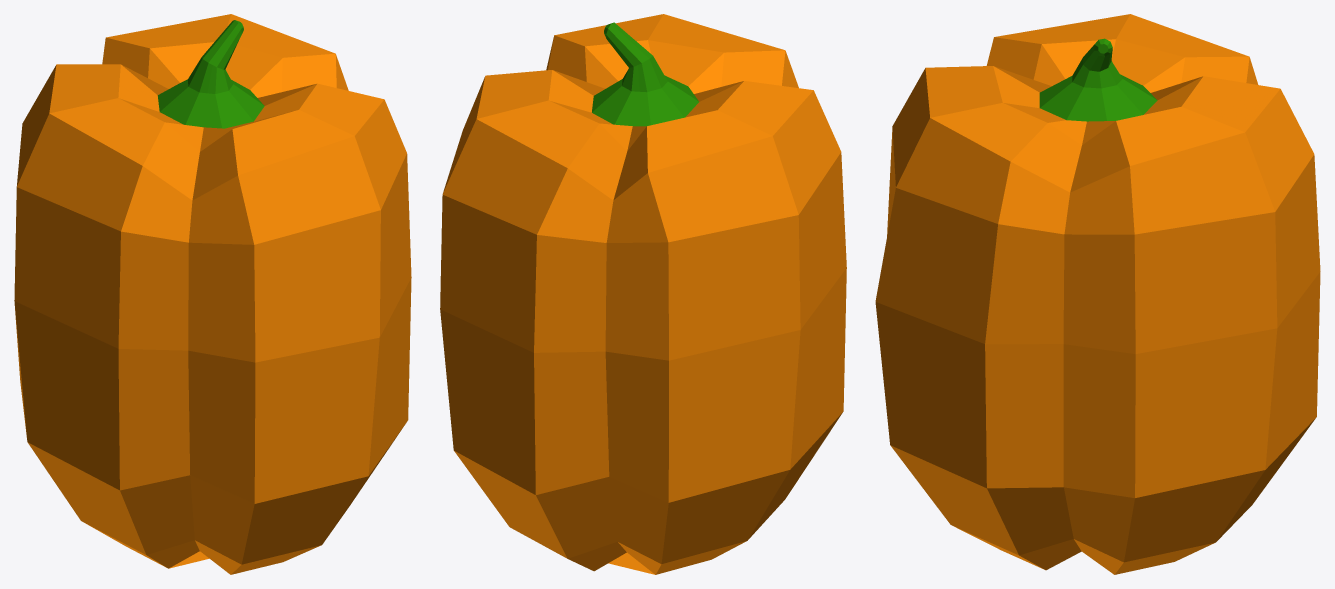
Rendered from pepperfruit03.gltf.
3 views of the same model, side by side, from view 1: azimuth 30°, elevation 25°; view 2: azimuth 150°, elevation 25°; view 3: azimuth 270°, elevation 25° (orthographic).
Visible parts, largest first — view 1: Cylinder.002; view 2: Cylinder.002; view 3: Cylinder.002.
Boxes of the visible parts, x1,y1,x2,y2 form: Cylinder.002: (14, 14, 411, 574); Cylinder.002: (440, 14, 846, 574); Cylinder.002: (875, 14, 1320, 574).
Bounding box in the file's own units: 0.0613 × 0.0863 × 0.0678.
1 material, 1 textured.
